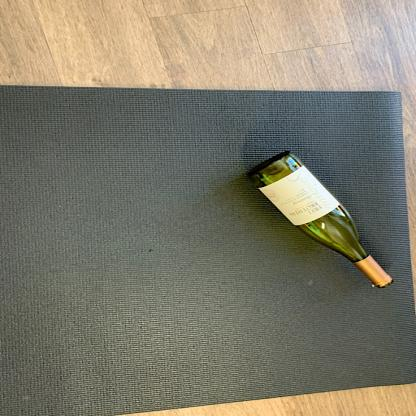trash: (245, 147, 396, 292)
